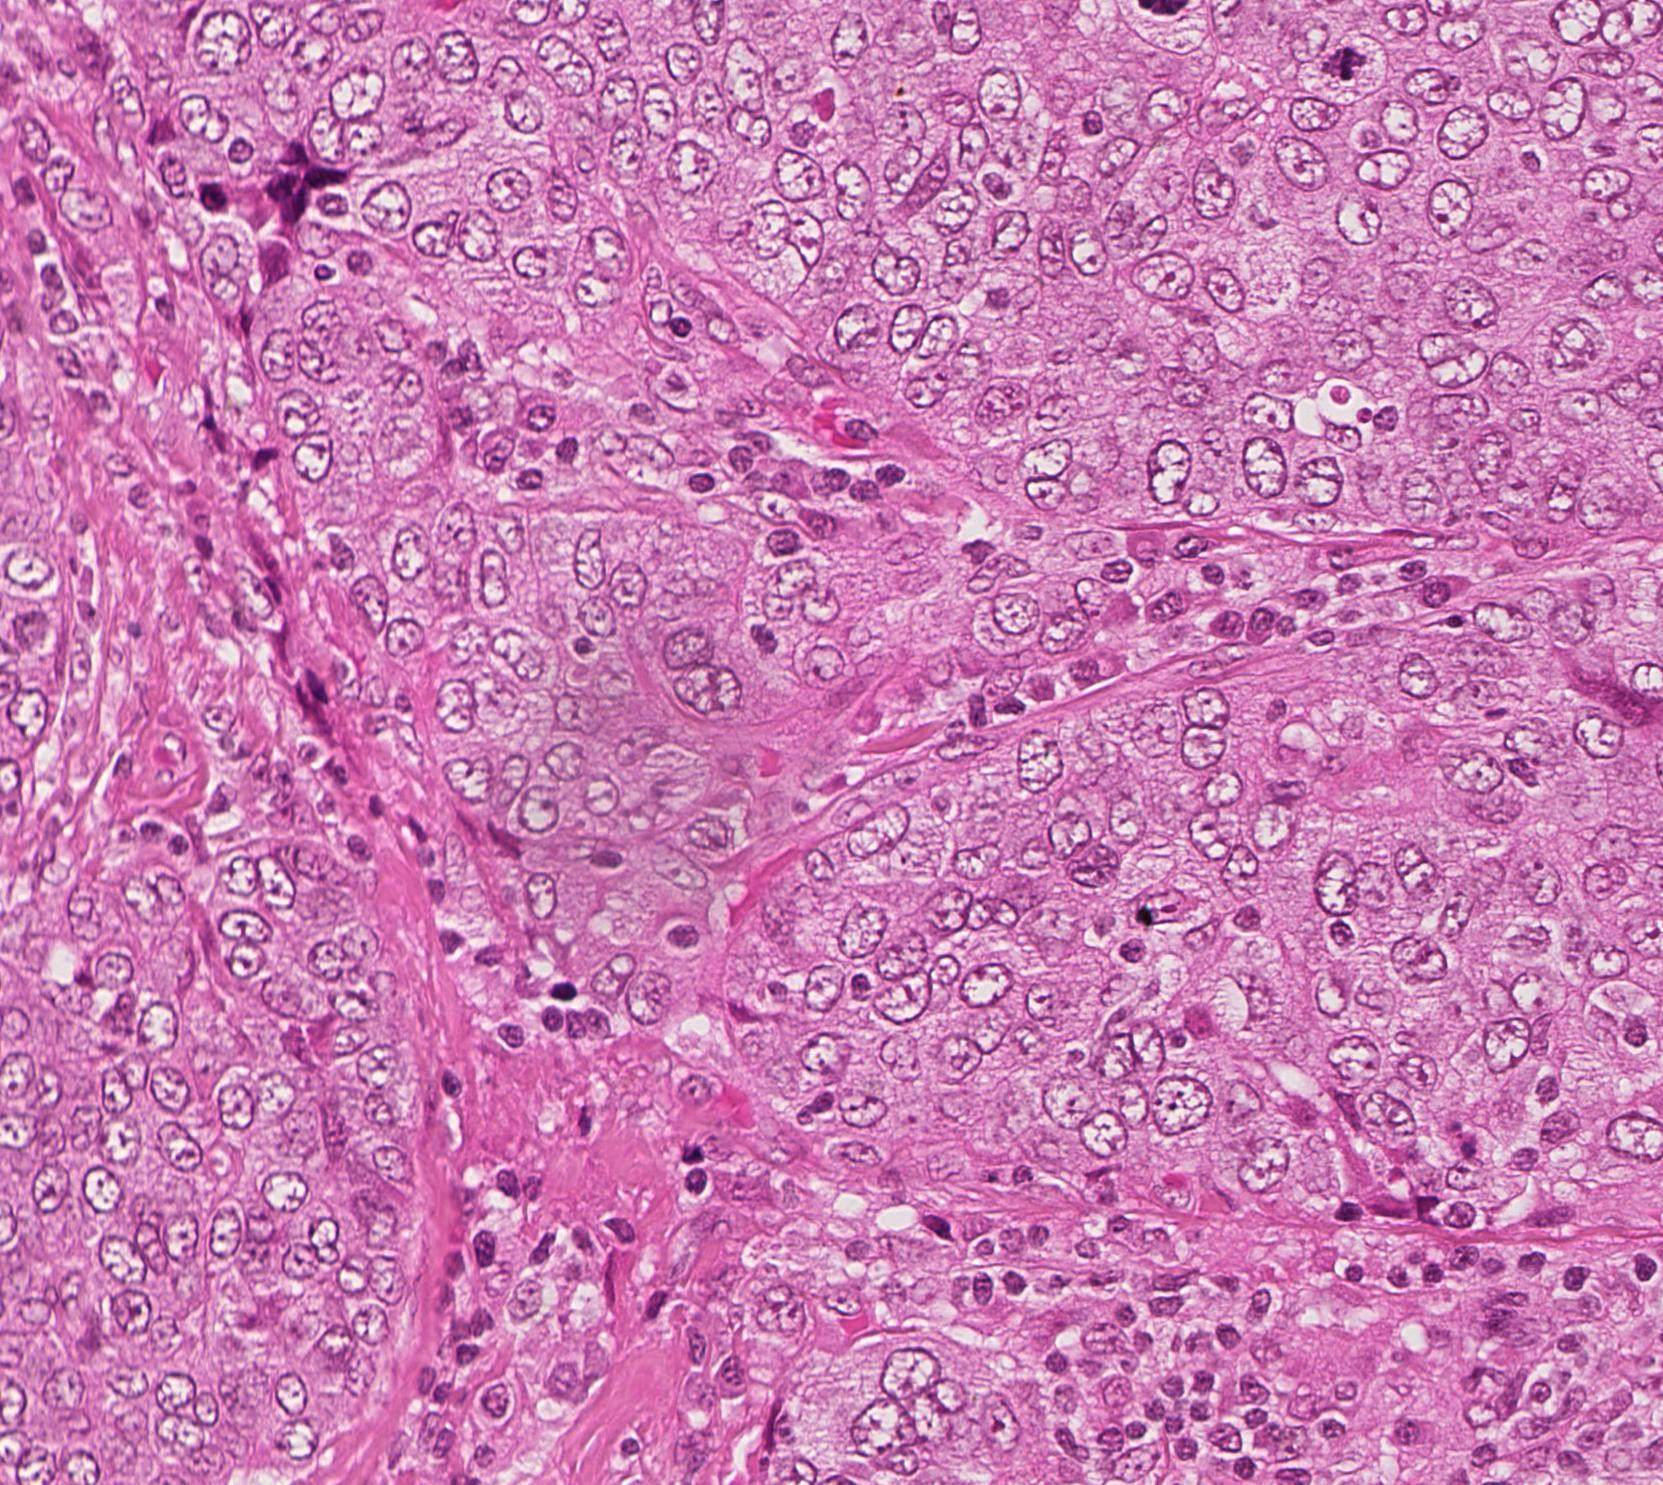mitosis: (1319, 40, 1379, 100), (1135, 0, 1196, 47)
